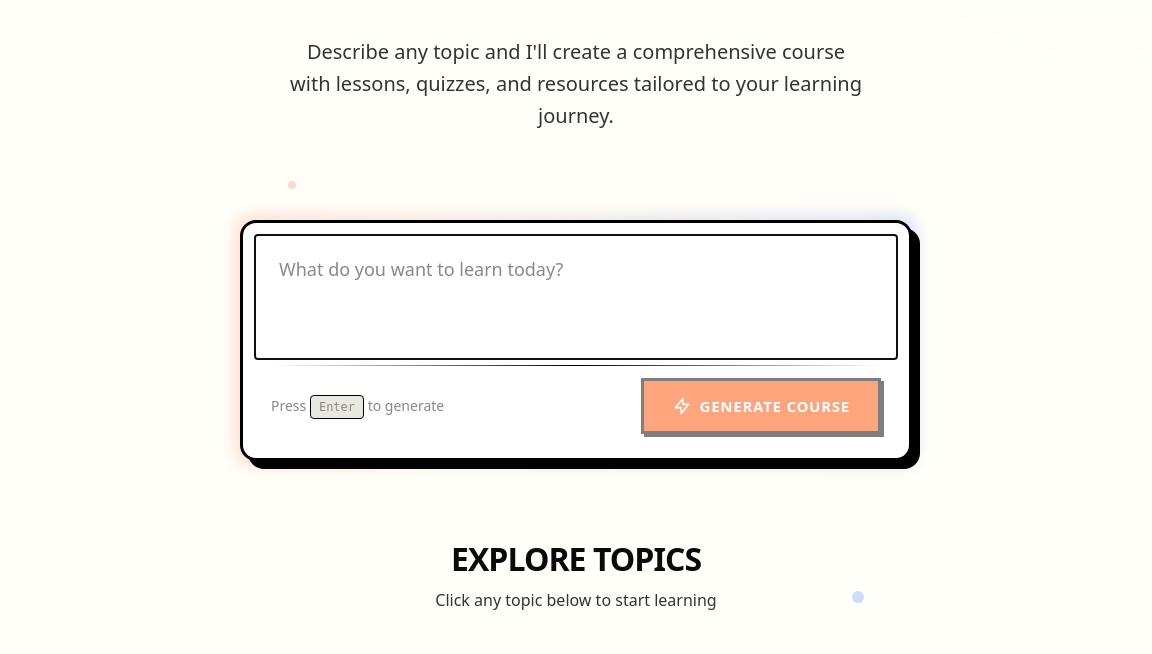
Test: Home Page - Course Generation Flow › should show progress during course generation
(page scrolled)
Type "Testing" into the text box with placeholder "What do you want to learn today?" at (576, 297), box [255,235,897,359]
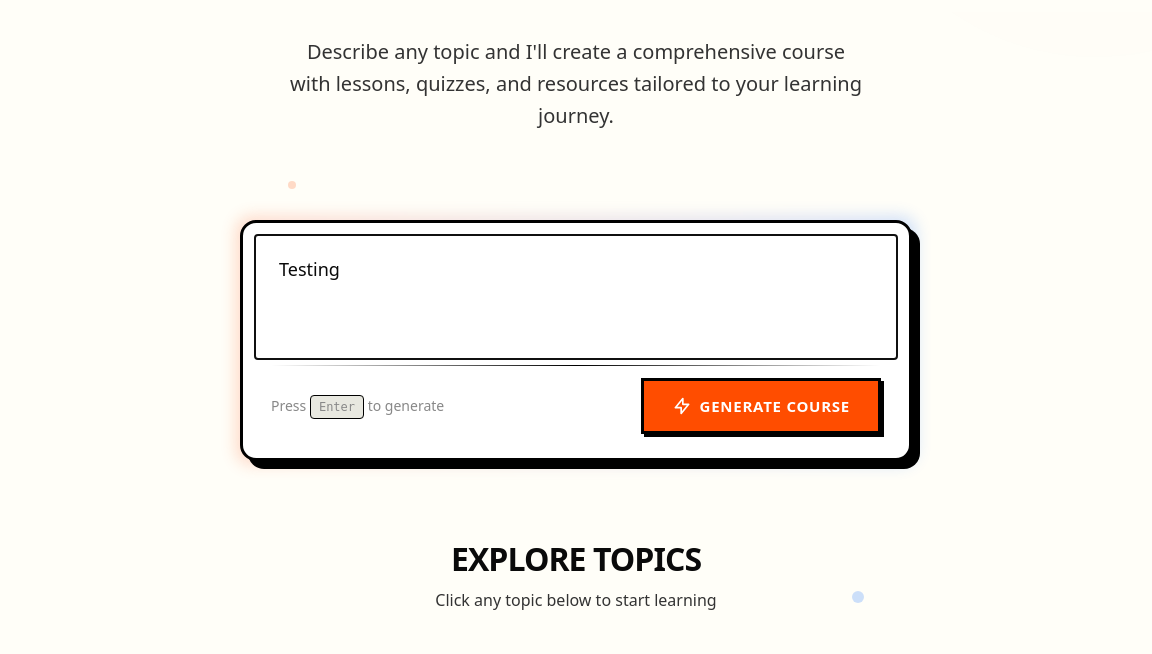
Click the button "Generate Course" at (761, 406), box [641,378,881,434]
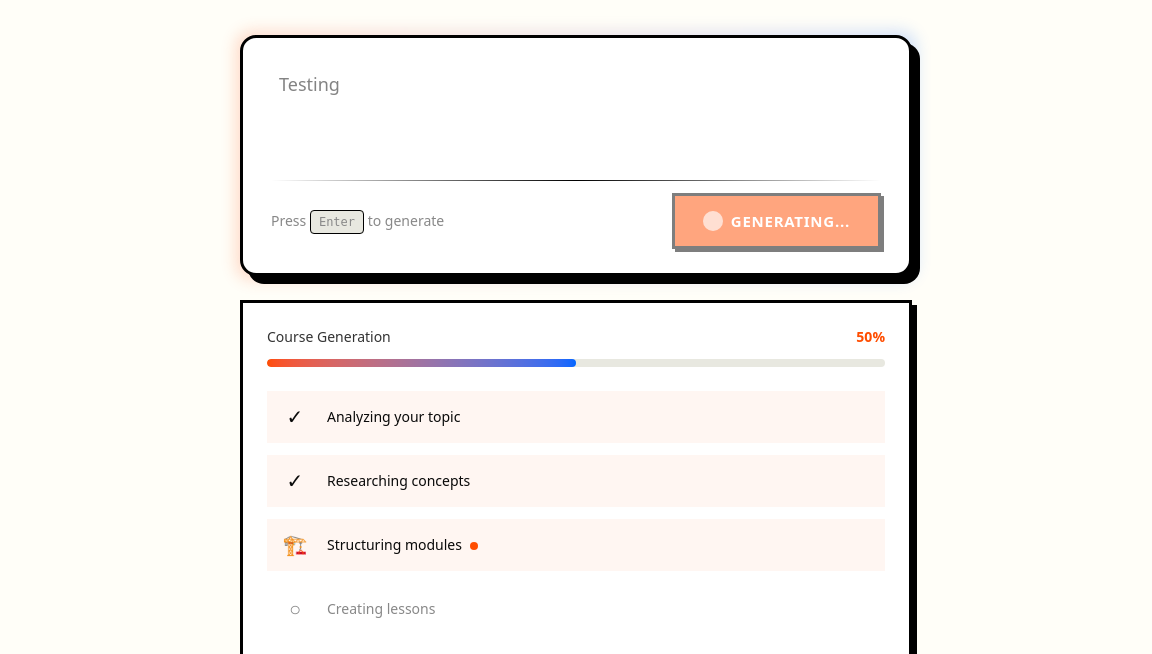
Now the text "Course Generation" is shown, box [267,327,391,347]
